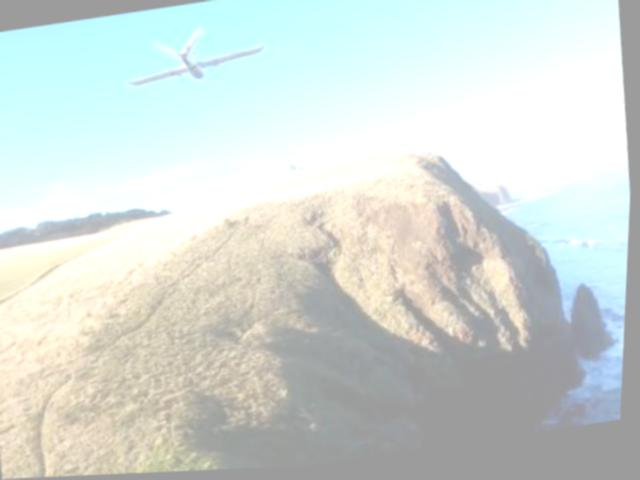uav: (123, 19, 268, 95)
